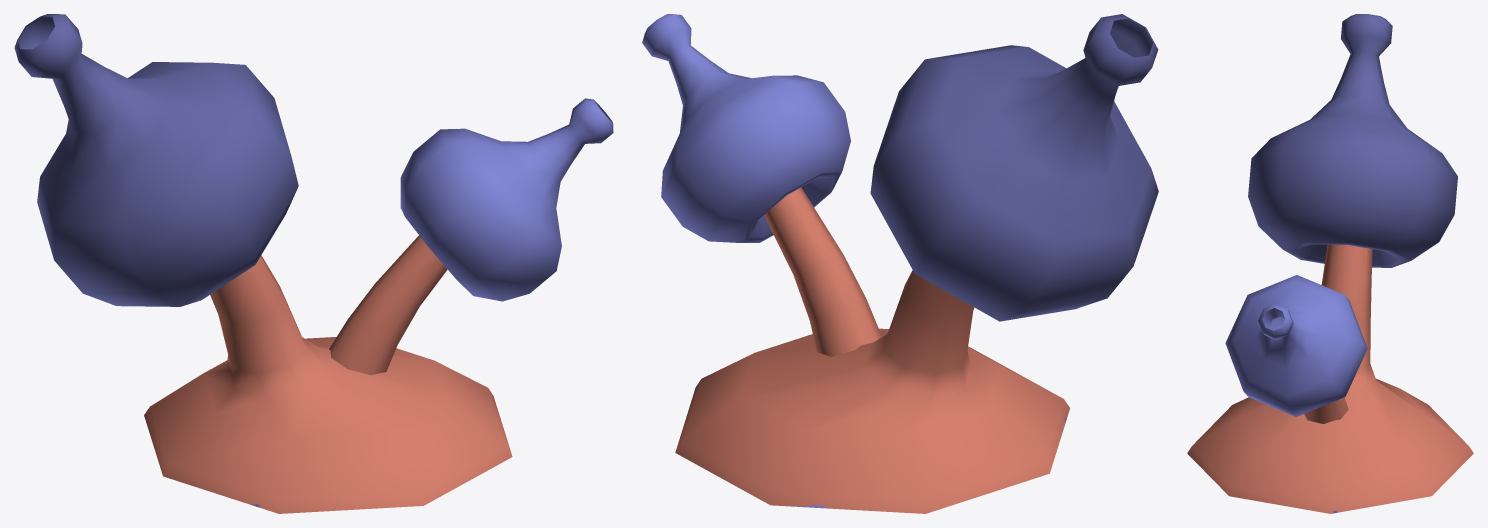
The model's file is Mushrooms2.fbx.
The picture shows the model from 3 angles, left to right: view 1: azimuth 30°, elevation 25°; view 2: azimuth 150°, elevation 25°; view 3: azimuth 270°, elevation 25°; orthographic projection. The views are drawn at different scales.
Visible parts, largest first — view 1: Circle.010; view 2: Circle.010; view 3: Circle.010.
Boxes of the visible parts, x1,y1,x2,y2 form: Circle.010: [14, 14, 613, 513]; Circle.010: [642, 14, 1158, 513]; Circle.010: [1187, 14, 1473, 513].
Bounding box in the file's own units: 1.45 × 1.2 × 0.8993.
